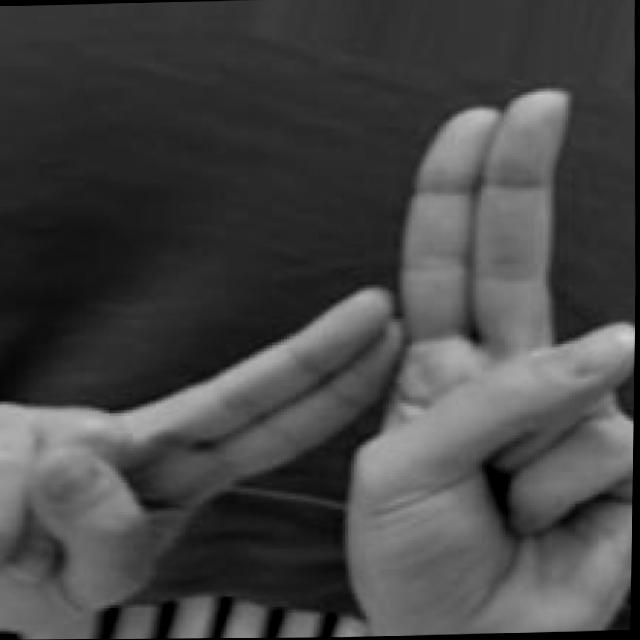K: (0, 79, 639, 640)
